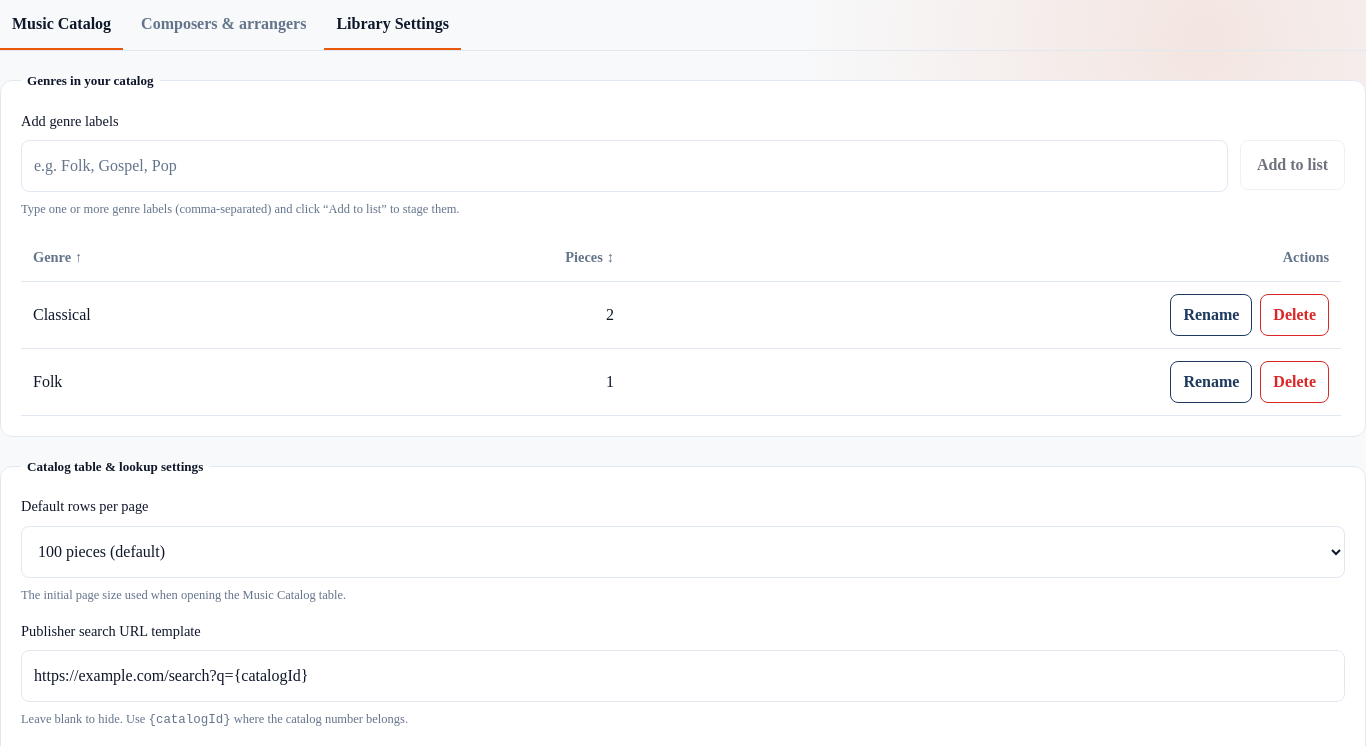
Test: MusicLibrarySettingsPage genre management with DataTable & batch add › renames a saved genre inline
The image size is (1366, 746).
Click the button with aria-label "Rename Folk genre".
click(1211, 382)  # box [1170,361,1252,403]
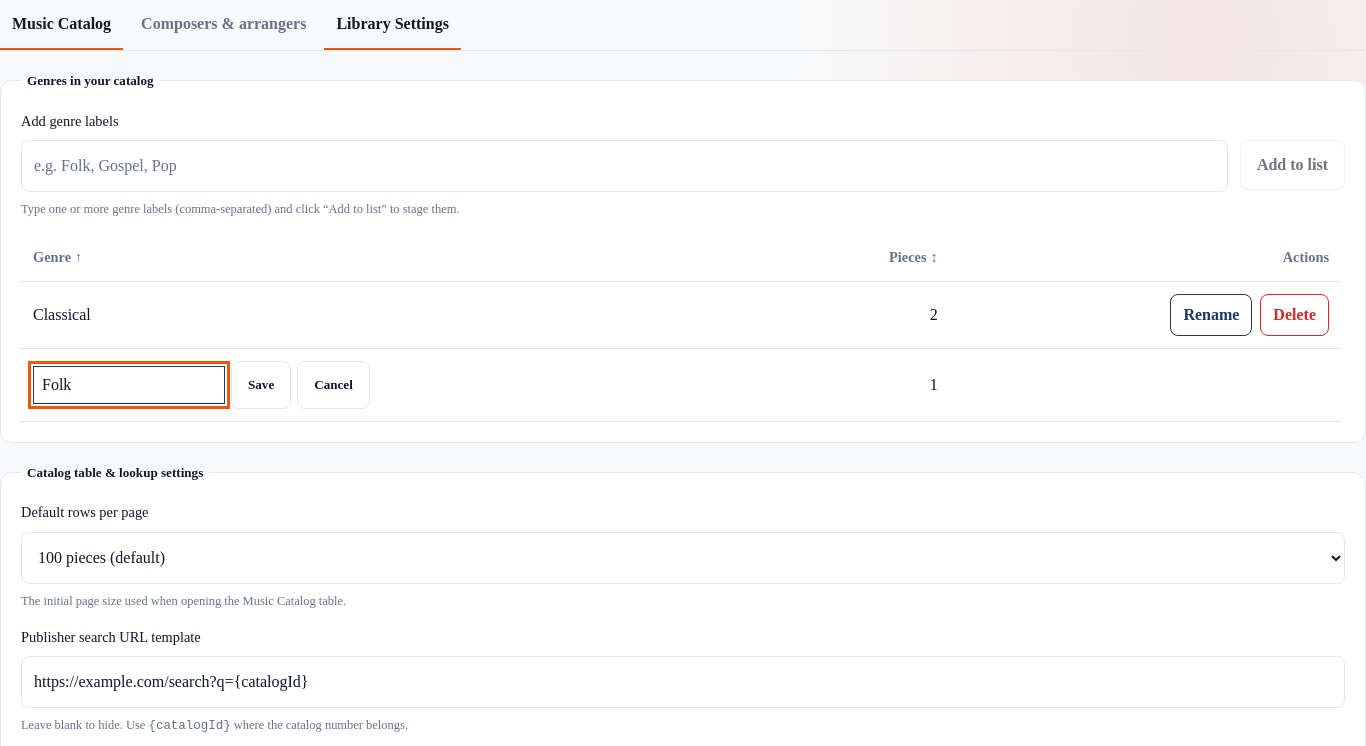
Expected: the field named "Rename Folk genre" holds "Folk"
Replace the text in the field named "Rename Folk genre" with "Traditional Folk" at (129, 385), box [33,366,225,404]
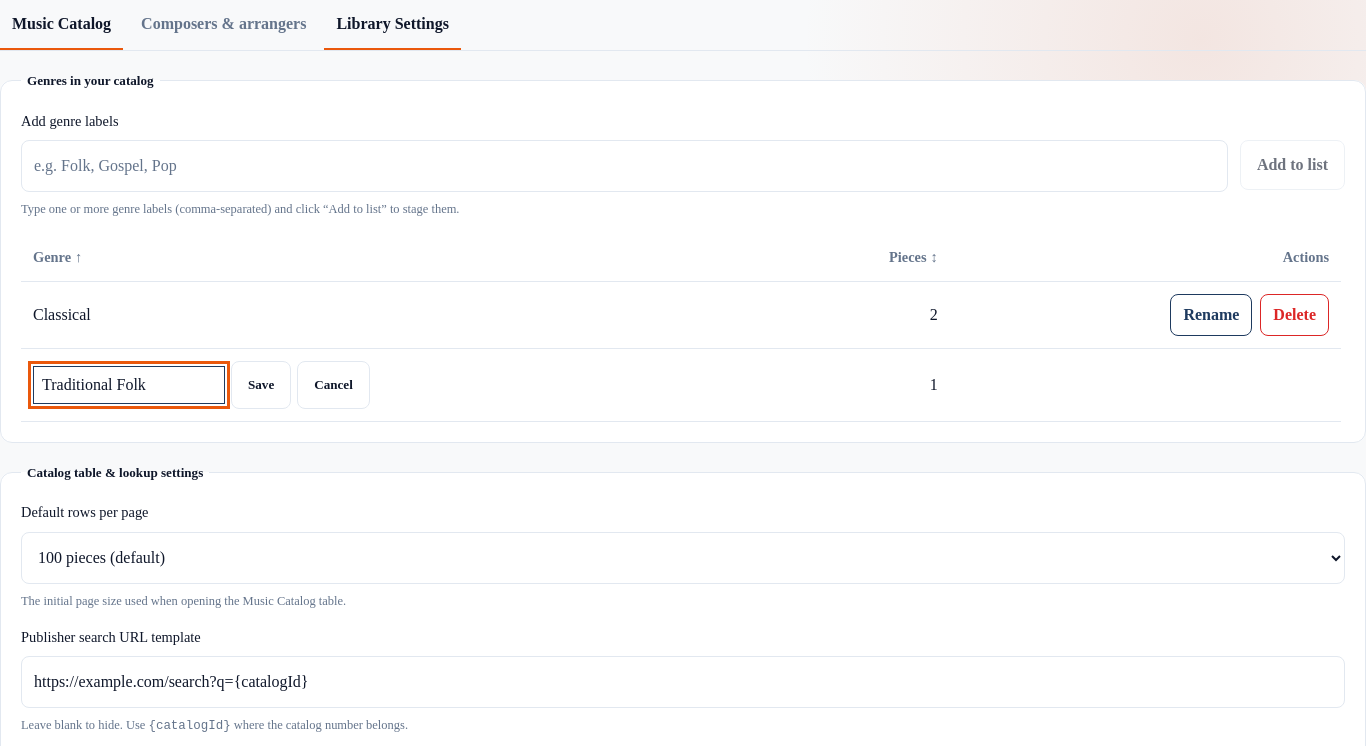
Click the button "Save".
click(261, 385)  # box [231,361,291,409]
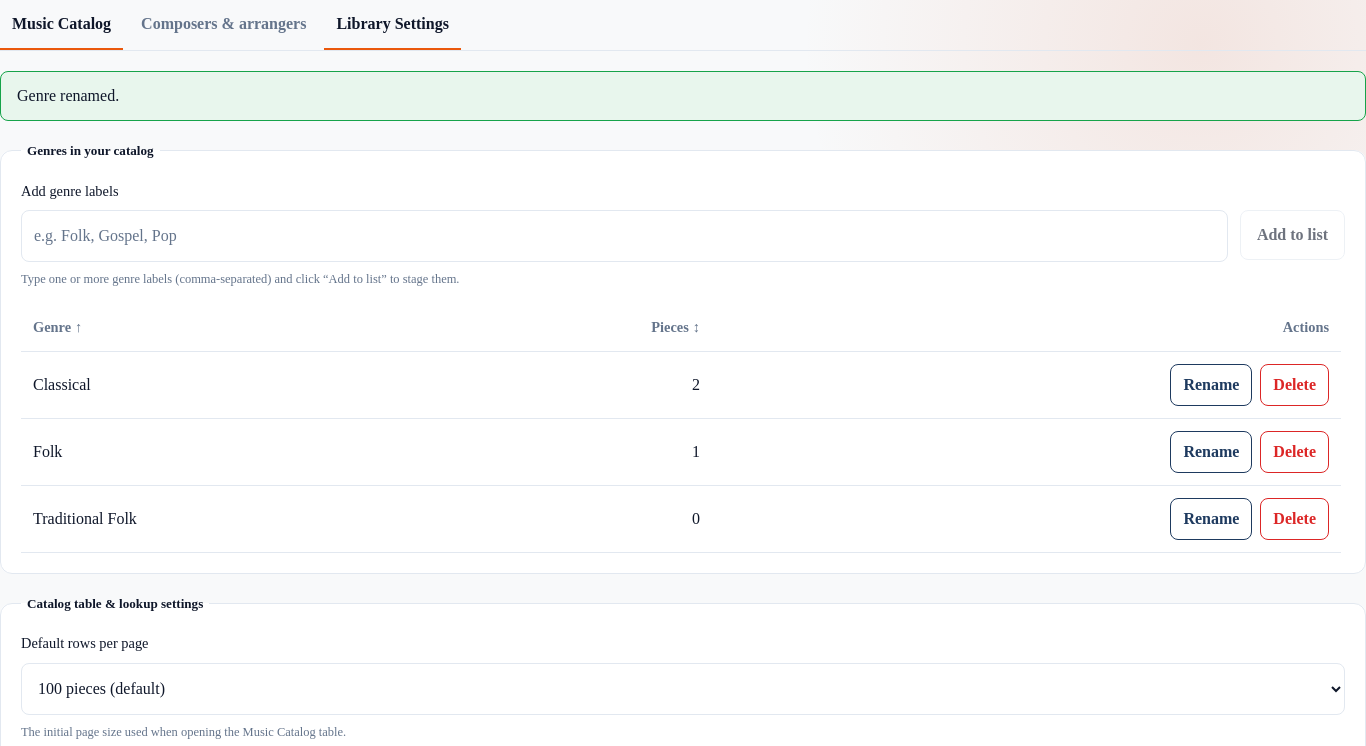
Expected: the text "Genre renamed." is shown, [0,71,1365,121]
